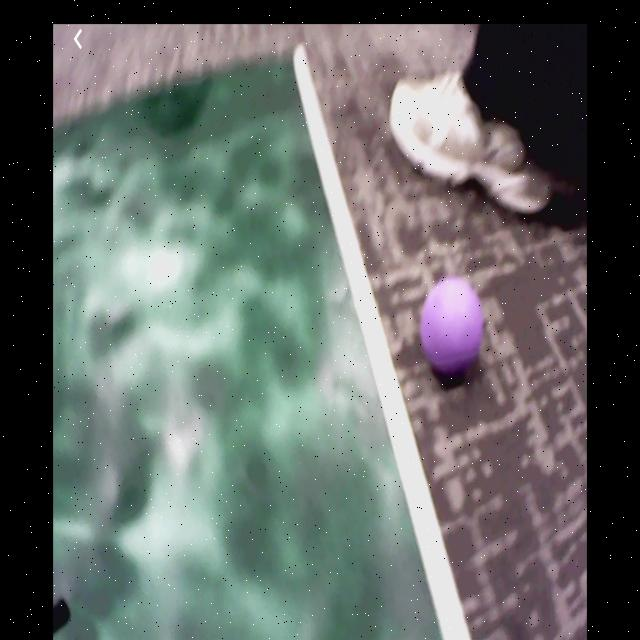ball: (421, 278, 484, 369)
